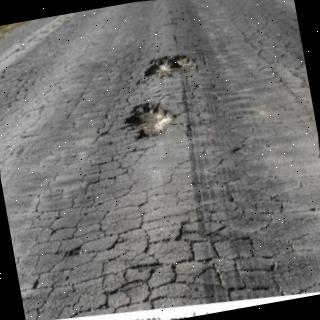pothole: (125, 104, 173, 139), (144, 54, 198, 78)
